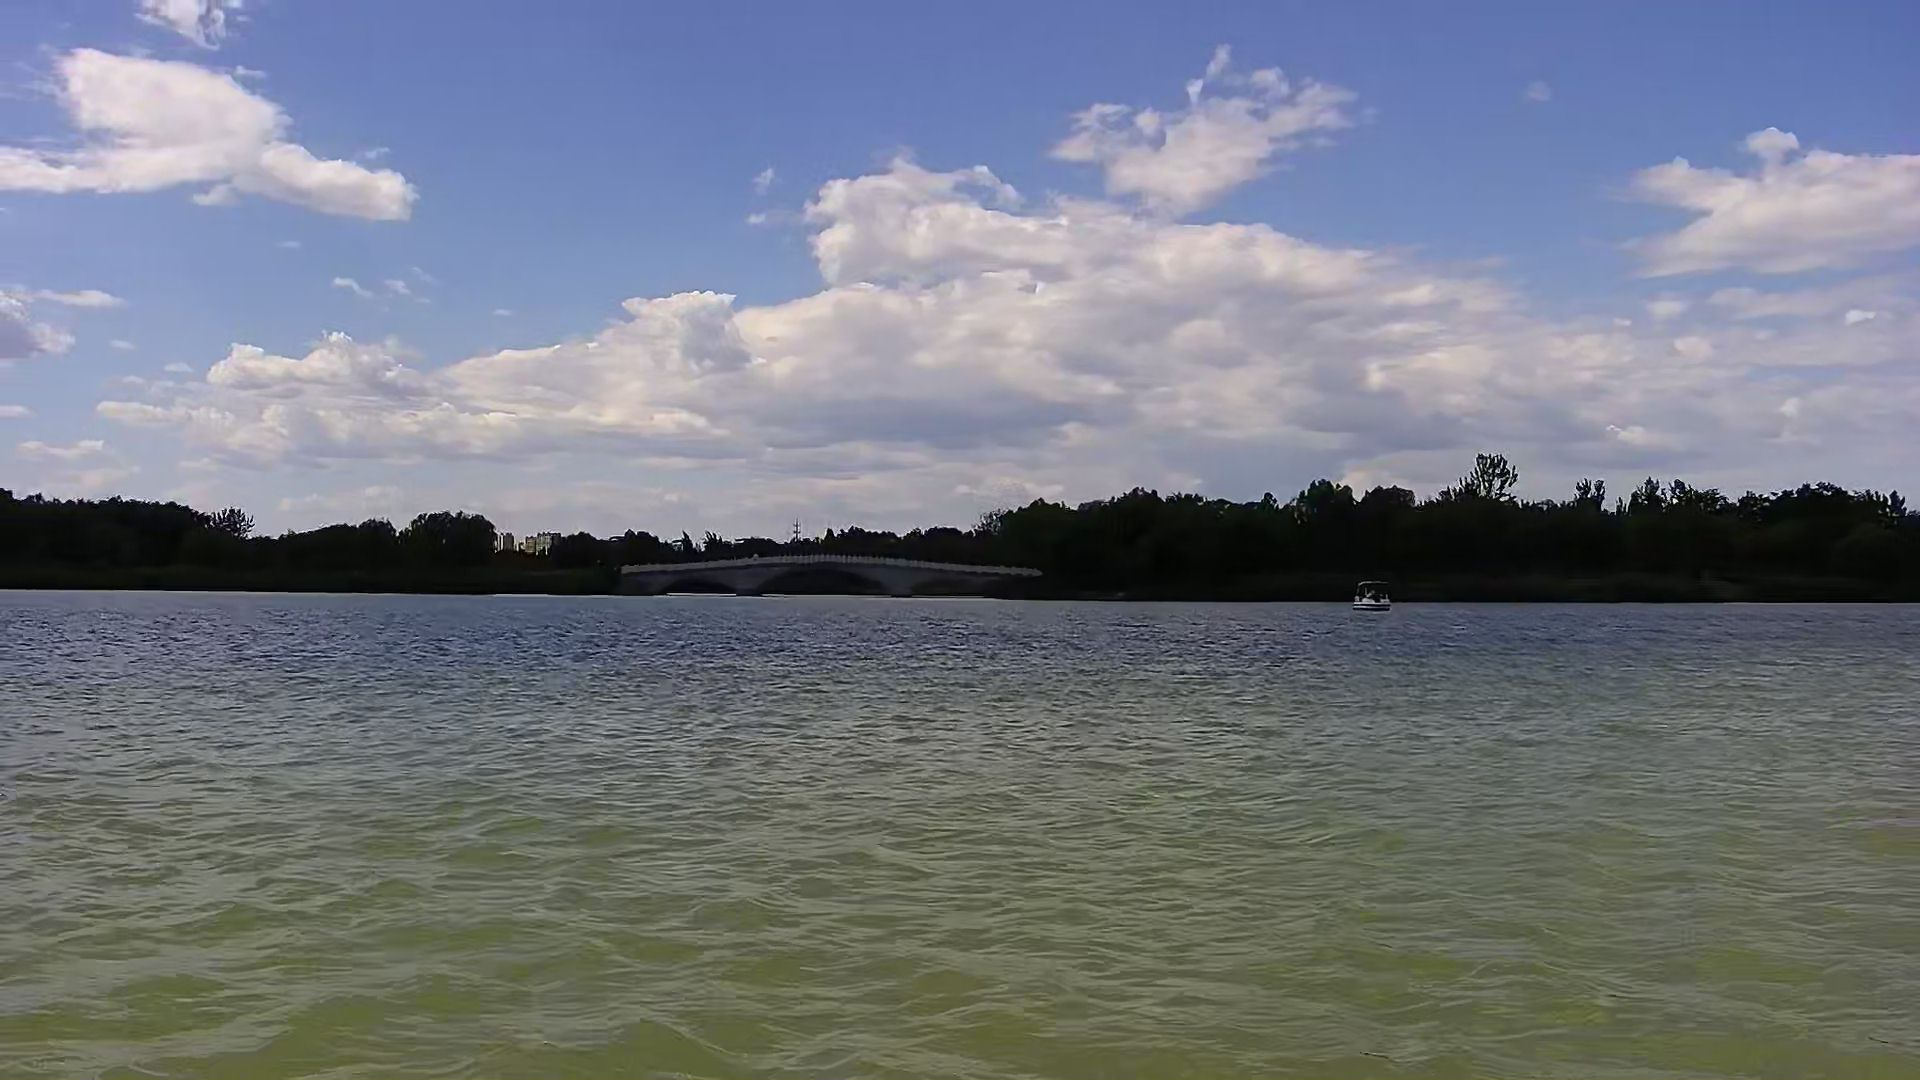boat: (1352, 572, 1400, 618)
bridge: (624, 549, 1019, 601), (625, 549, 1021, 600), (622, 547, 1017, 599)
